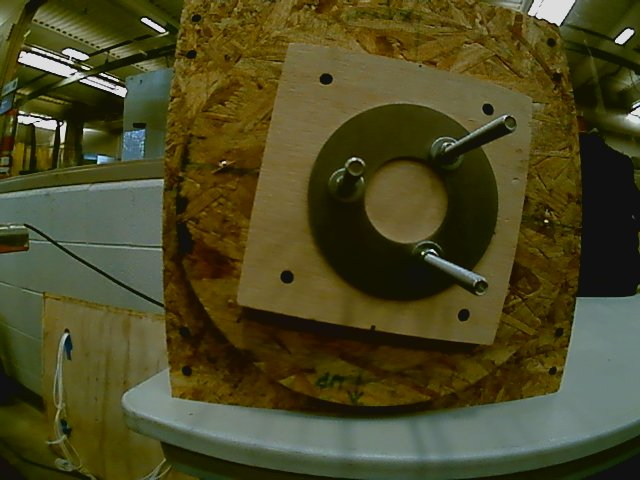bolt: (344, 154, 367, 179), (503, 112, 518, 136), (472, 278, 489, 297)
